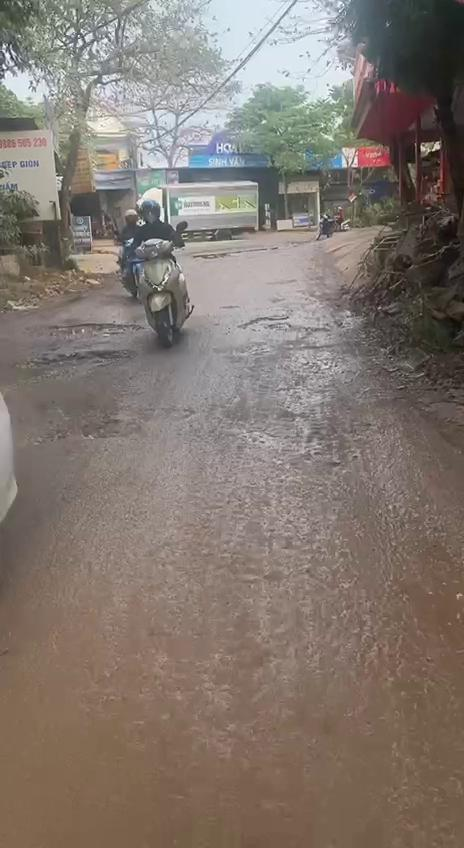pothole: (28, 410, 151, 448), (28, 342, 141, 375), (237, 311, 325, 339), (38, 317, 148, 332)
